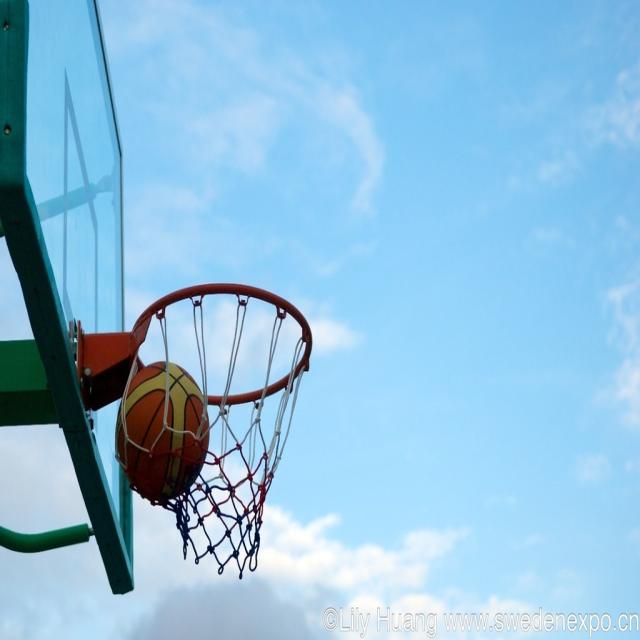Ball: (116, 362, 210, 501)
